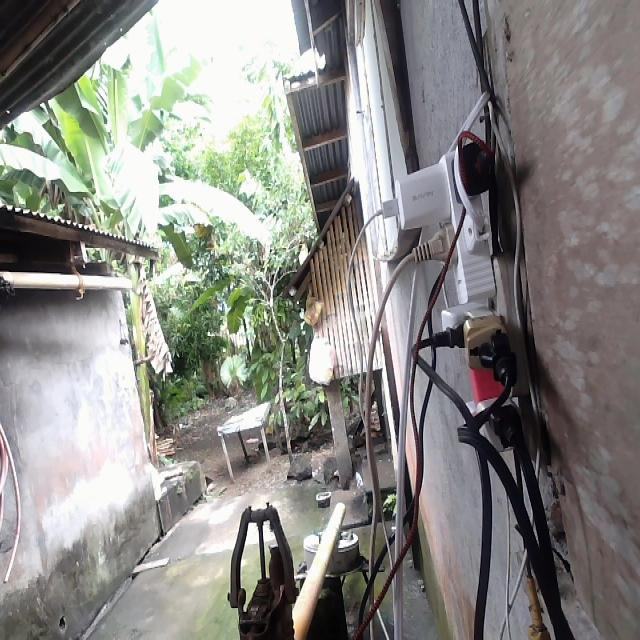-: (380, 130, 527, 458)
